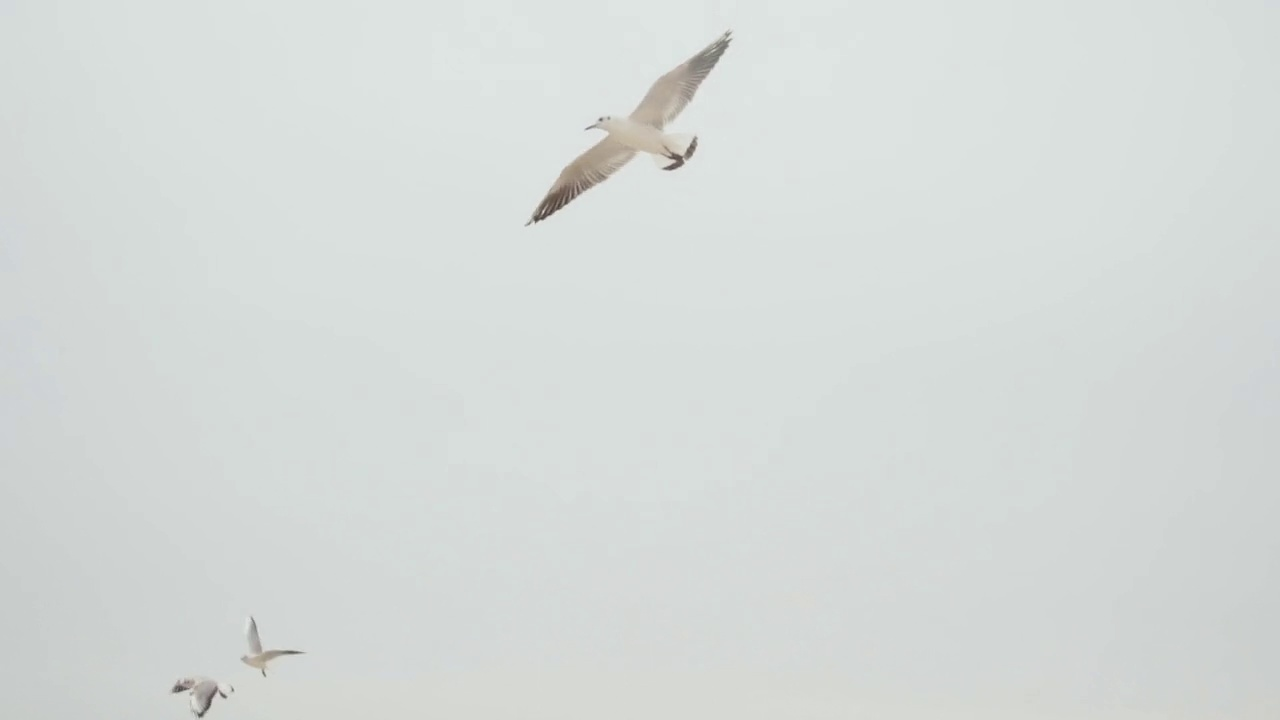bird: (526, 26, 731, 225), (236, 615, 303, 678), (171, 677, 226, 720)
